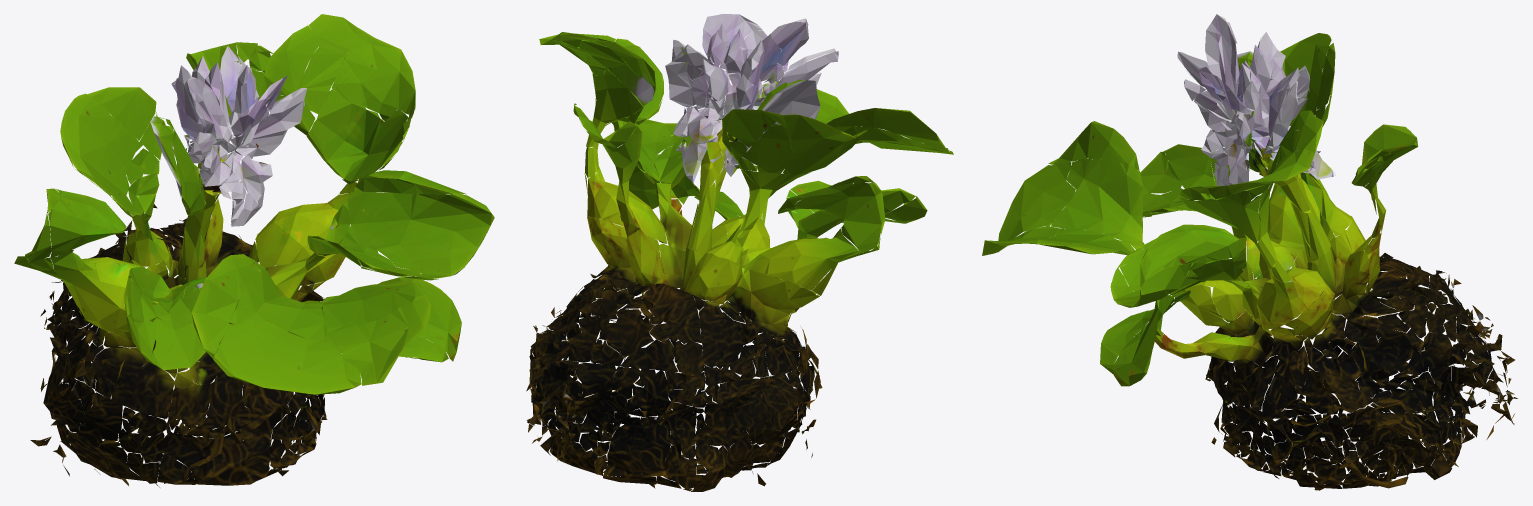
Rendered from camalote.glb.
3 views of the same model, side by side, from view 1: azimuth 30°, elevation 25°; view 2: azimuth 150°, elevation 25°; view 3: azimuth 270°, elevation 25° (orthographic). The views are drawn at different scales.
Visible parts, largest first — view 1: tripo_node_e63225a9-a81e-4801-8ee5-3061d82fce2e; view 2: tripo_node_e63225a9-a81e-4801-8ee5-3061d82fce2e; view 3: tripo_node_e63225a9-a81e-4801-8ee5-3061d82fce2e.
Part boxes in pixels (<box>): tripo_node_e63225a9-a81e-4801-8ee5-3061d82fce2e: <box>14,14,494,487</box>; tripo_node_e63225a9-a81e-4801-8ee5-3061d82fce2e: <box>526,14,953,491</box>; tripo_node_e63225a9-a81e-4801-8ee5-3061d82fce2e: <box>982,14,1517,490</box>.
Size of the model in its own units: 0.7853 by 0.8798 by 0.9967.
Materials: 1 (1 with a texture image).
